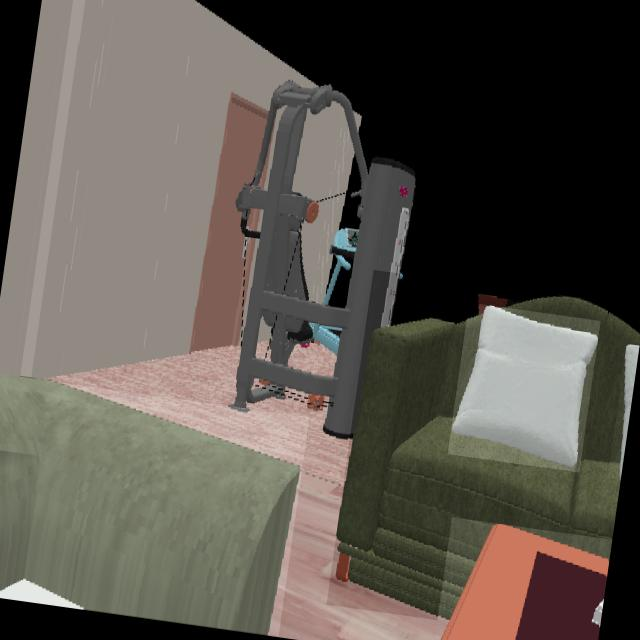pillow: (450, 306, 598, 472), (621, 345, 639, 478)
sofa: (336, 297, 640, 622), (0, 375, 301, 635)
table: (440, 525, 608, 640)
